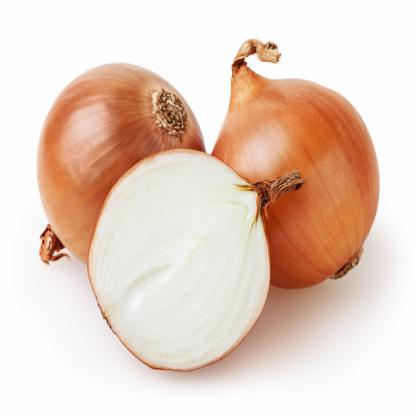onion: (4, 58, 214, 290), (89, 146, 263, 362), (219, 65, 379, 292)
